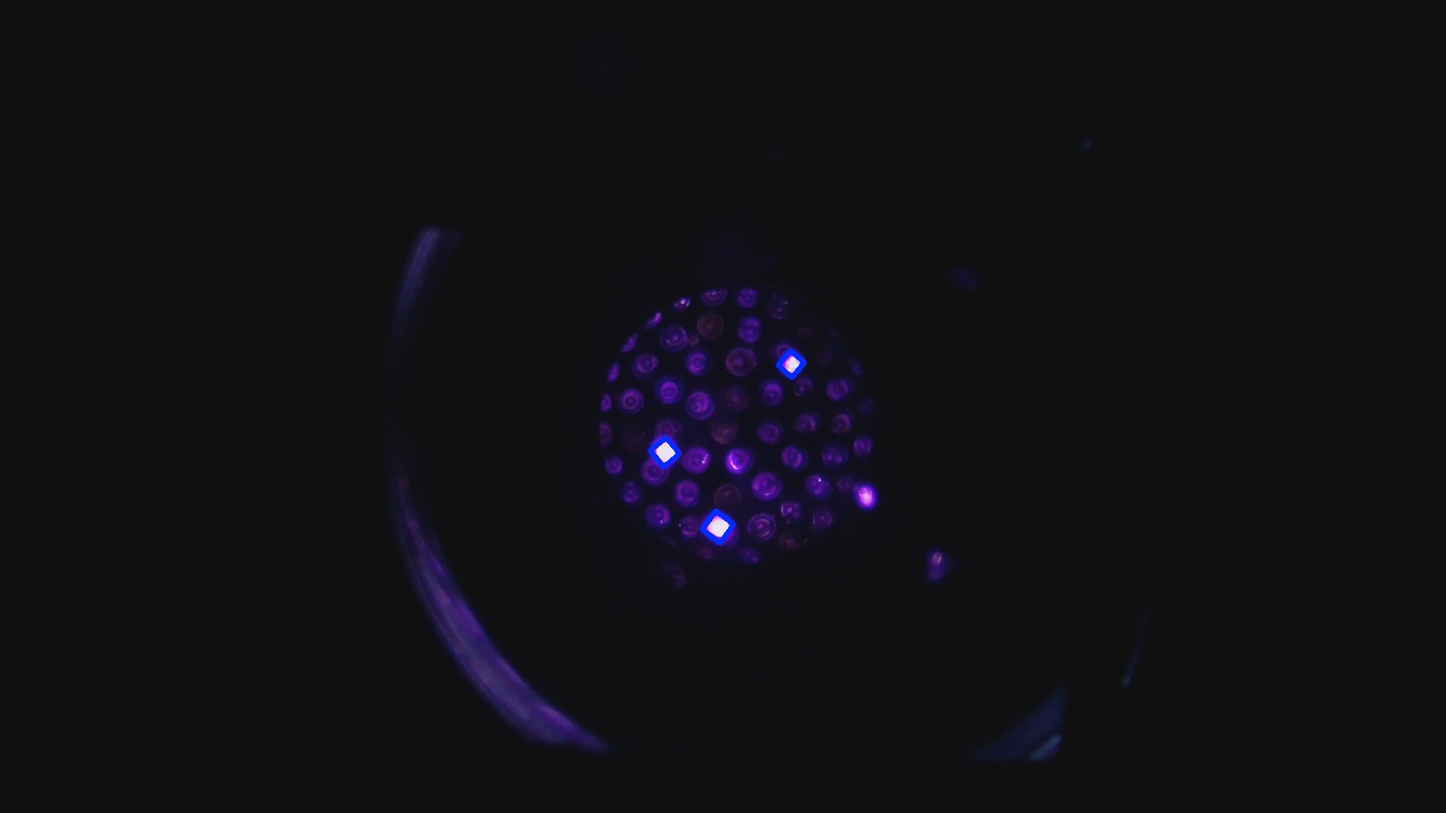plastic: (695, 504, 741, 549), (644, 432, 686, 473), (773, 345, 810, 383), (856, 485, 876, 507)
